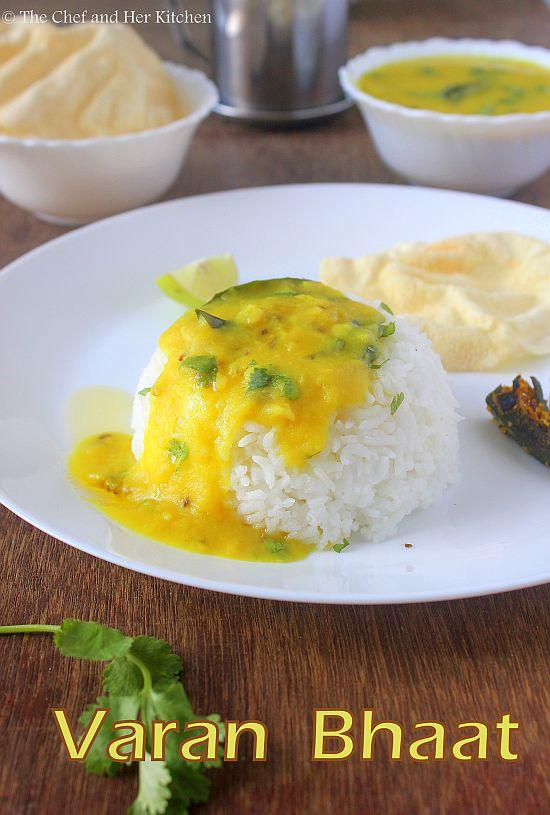varan: (160, 276, 397, 402), (359, 46, 550, 118)
